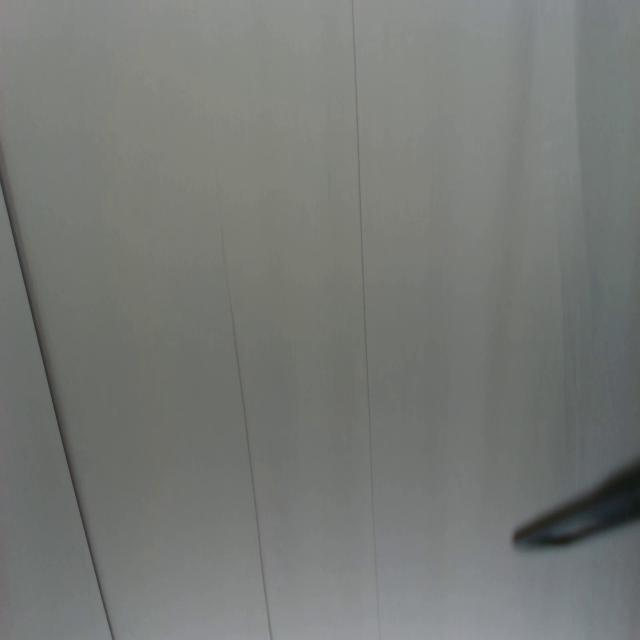crease: (1, 173, 115, 640), (218, 227, 276, 639), (348, 0, 384, 637)
